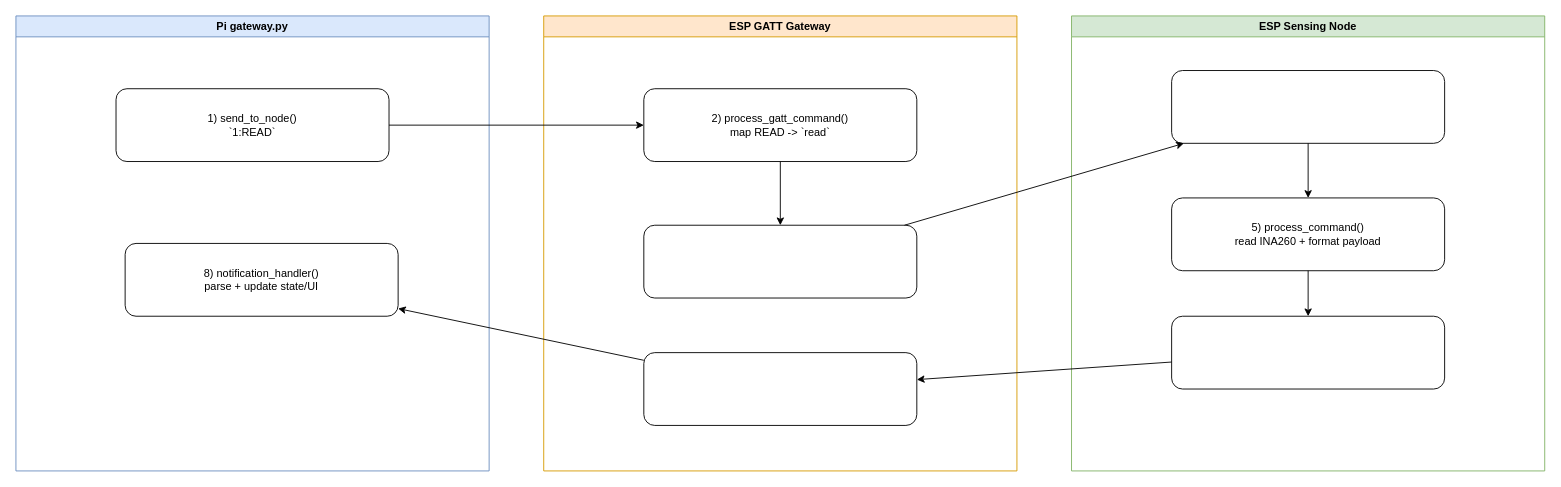
The diagram is 1561 pixels wide and 487 high, and some of its shapes have lost their labels. The shapes that lost their labels are listed below. From the top down, each one's centre as x and y in pixels, then its label:
point (1308, 106): 4) custom_model_cb() receive VND_OP_SEND
point (780, 261): 3) send_vendor_command() VND_OP_SEND
point (1308, 352): 6) send VND_OP_STATUS back to gateway
point (780, 388): 7) gatt_notify_sensor_data() `NODE1:DATA:...`
